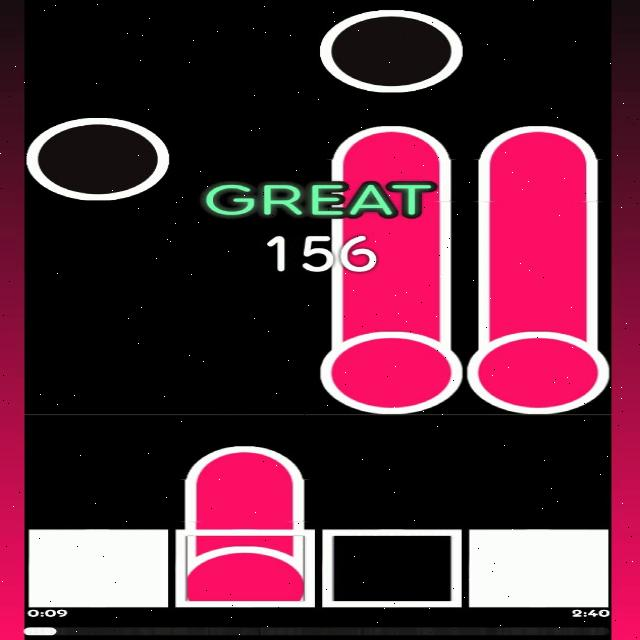end_hold: (178, 427, 308, 496), (326, 114, 453, 174), (476, 116, 601, 175)
note: (25, 115, 172, 202), (319, 8, 463, 95)
start_hold: (322, 326, 466, 414), (464, 328, 610, 414), (185, 536, 303, 604)
